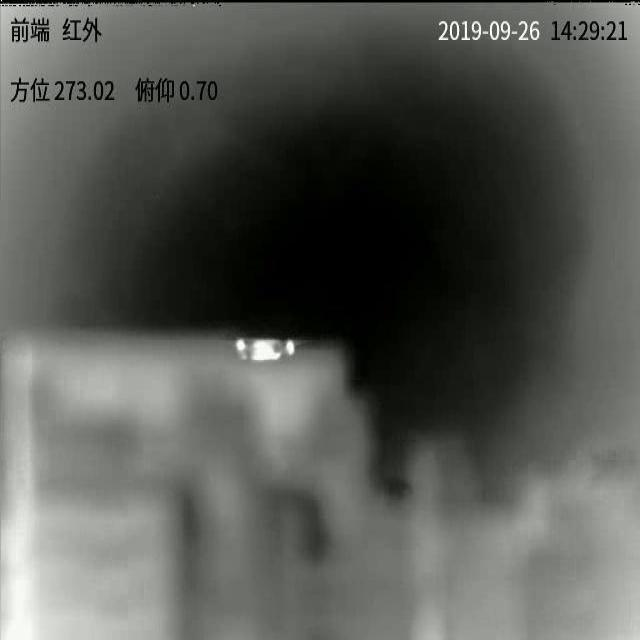drone: (235, 338, 295, 361)
